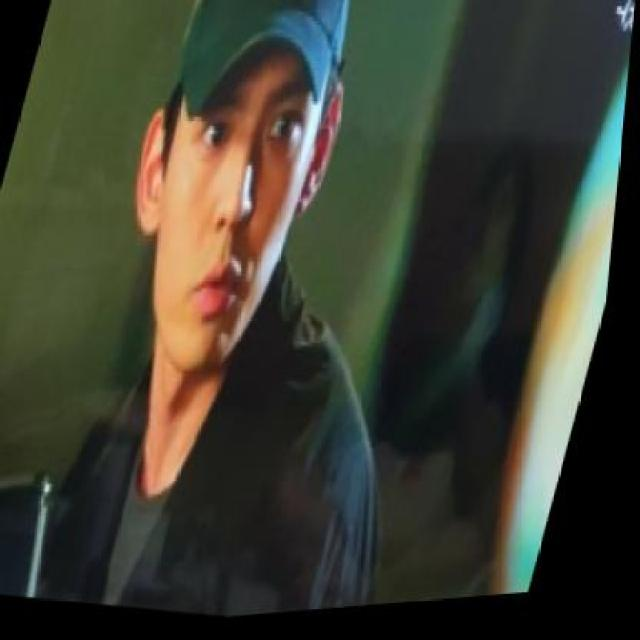hat: (159, 0, 366, 145)
